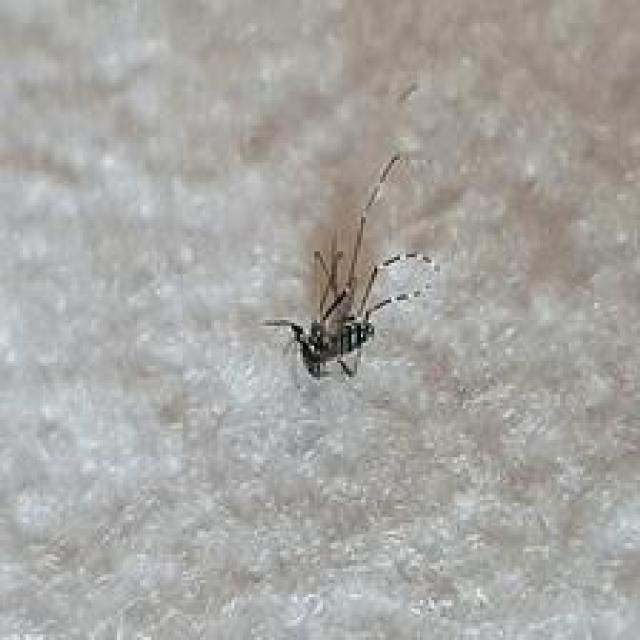Aedes albopictus: (262, 150, 438, 384)
